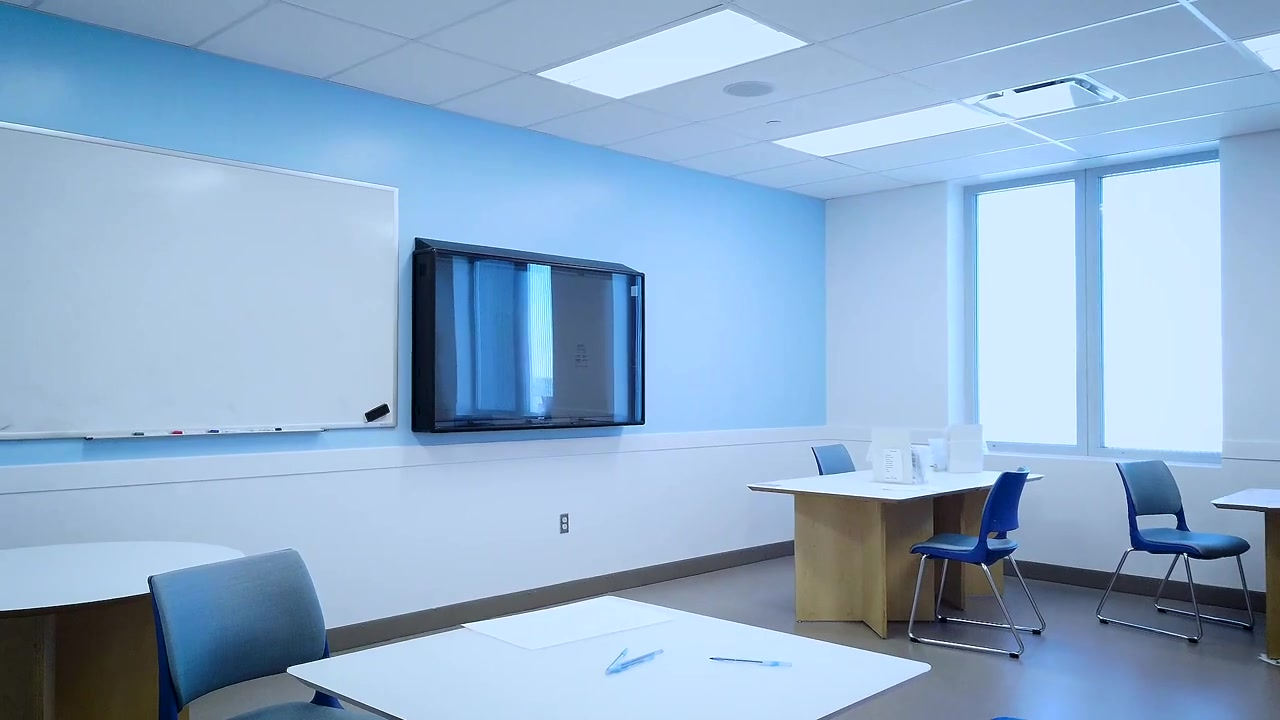TV: (411, 238, 646, 433)
chair: (146, 548, 388, 720), (1094, 458, 1256, 644), (905, 465, 1047, 660), (807, 444, 865, 481)
table: (284, 595, 935, 720), (745, 460, 1046, 640), (1, 541, 244, 720), (1209, 485, 1280, 665)
